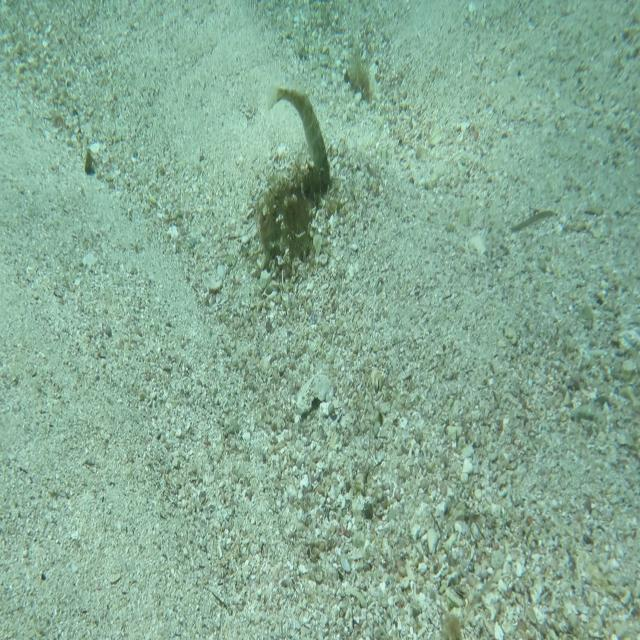NIP_IN: (264, 82, 331, 188)
core_nest: (290, 171, 323, 206)
nest: (256, 151, 335, 286)
vegetation: (346, 48, 373, 104), (84, 148, 96, 177)
